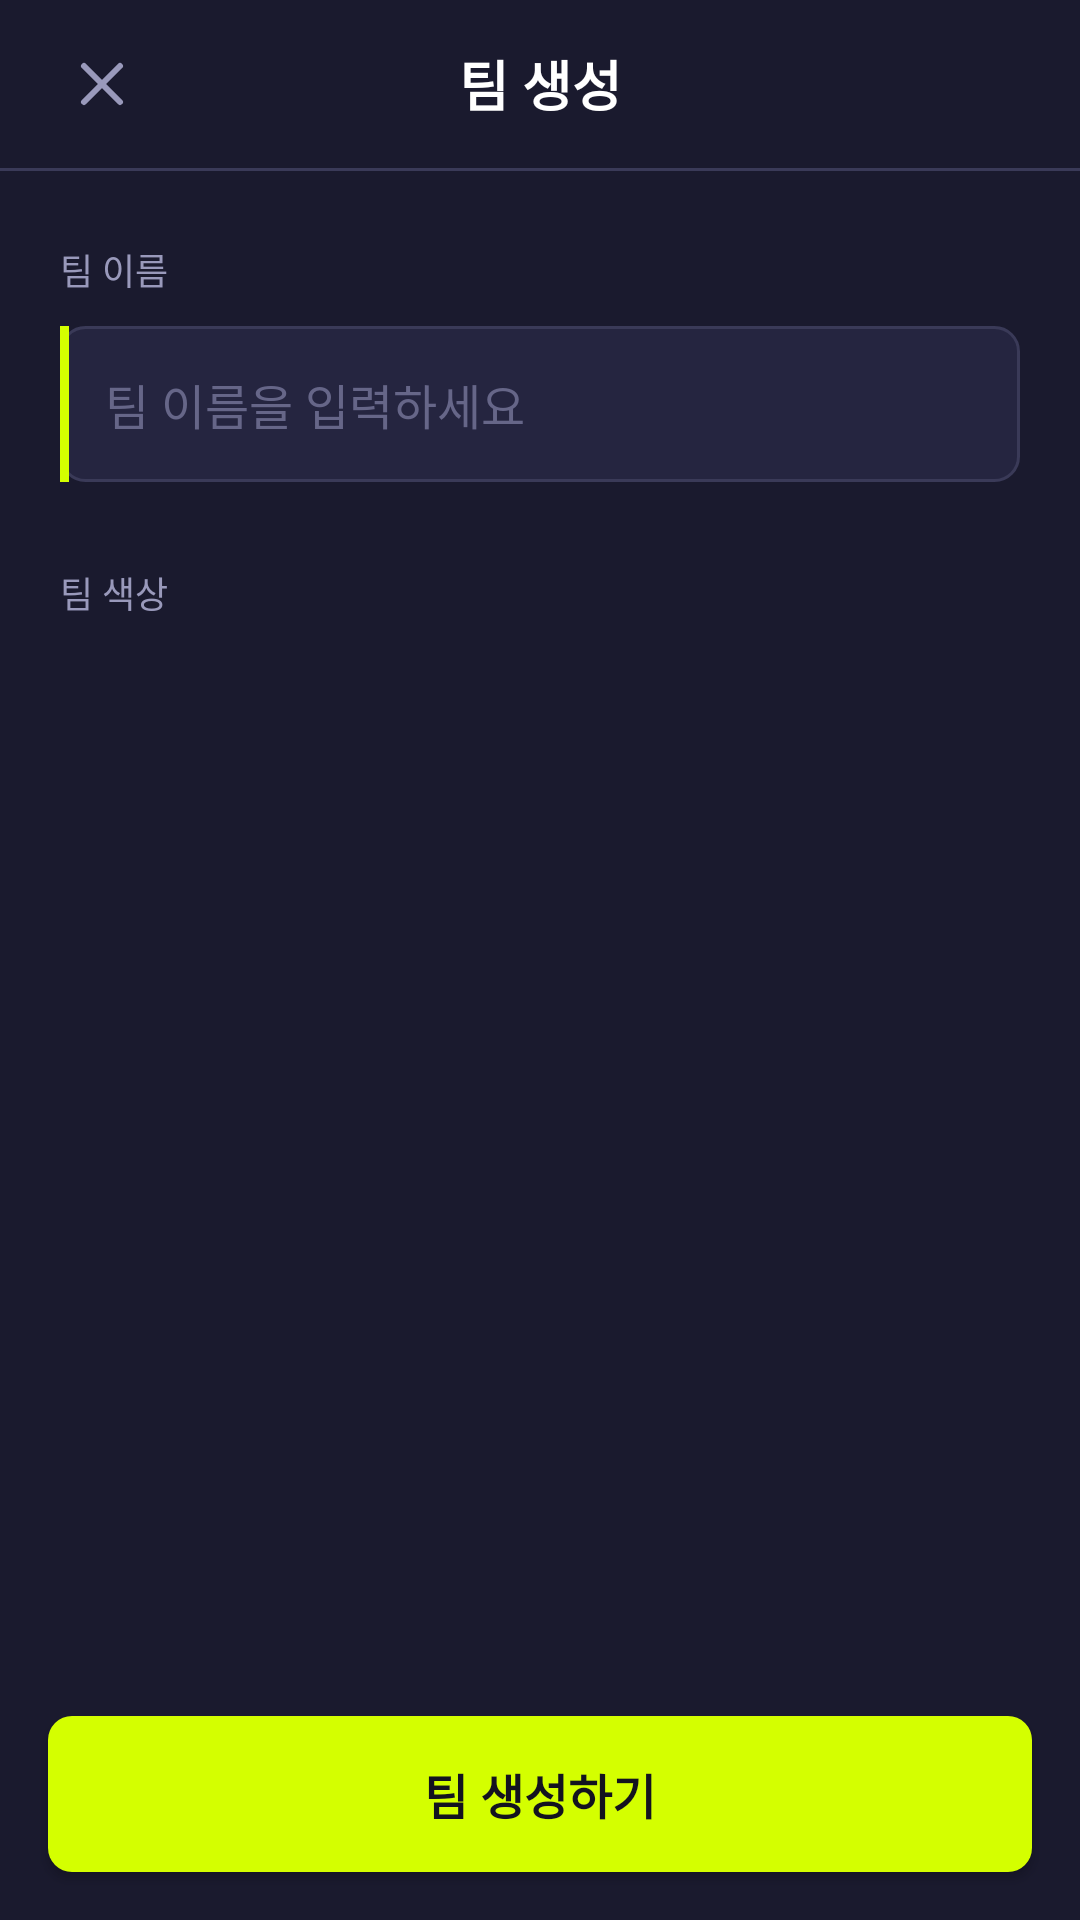

Screen size 1080*1920. Icon name, then its box in pixels as detection(x1, y1, x2, y2):
닫기: detection(81, 63, 123, 105)
